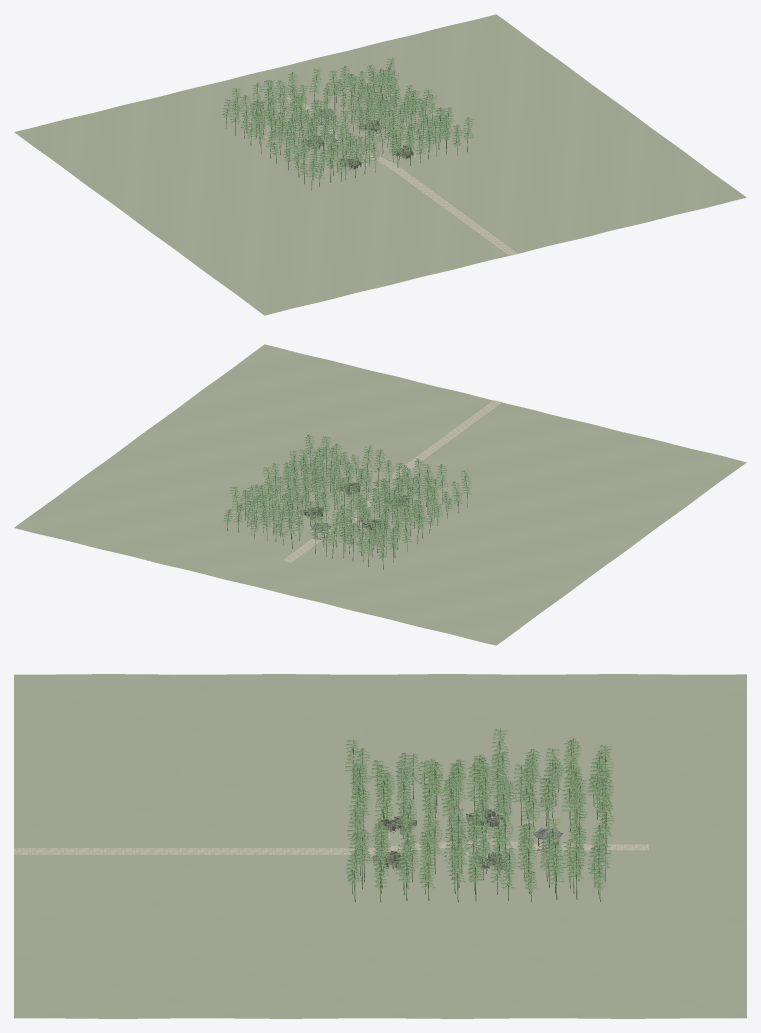
The model's file is bamboo-path.glb.
3 renders of one model, top to bottom at view 1: azimuth 30°, elevation 25°; view 2: azimuth 150°, elevation 25°; view 3: azimuth 270°, elevation 25°, orthographic. The views are drawn at different scales.
Parts seen in each view (by area): view 1: earth, leaf3, bamboo, stone, stone2, crown1; view 2: earth, leaf3, bamboo, stone, stone2, crown1; view 3: earth, leaf3, bamboo, stone, stone2, crown1.
Boxes of the visible parts, left/top/right/bottom form: earth: left=14, top=14, right=746, bottom=315; leaf3: left=222, top=58, right=473, bottom=178; bamboo: left=225, top=57, right=471, bottom=190; stone: left=287, top=97, right=517, bottom=254; stone2: left=288, top=96, right=516, bottom=255; crown1: left=301, top=120, right=413, bottom=169; earth: left=14, top=344, right=746, bottom=645; leaf3: left=223, top=434, right=472, bottom=558; bamboo: left=225, top=435, right=470, bottom=569; stone: left=284, top=400, right=500, bottom=562; stone2: left=283, top=401, right=502, bottom=561; crown1: left=299, top=482, right=407, bottom=531; earth: left=14, top=674, right=746, bottom=1018; leaf3: left=345, top=729, right=614, bottom=892; bamboo: left=347, top=728, right=612, bottom=902; stone: left=14, top=816, right=648, bottom=873; stone2: left=14, top=833, right=648, bottom=872; crown1: left=372, top=809, right=509, bottom=870.
Size of the model in its own units: 250 by 20.09 by 225.
